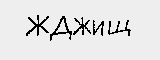Д: (50, 13, 72, 41)
Ж: (23, 10, 49, 38), (73, 13, 90, 37)
И: (90, 15, 105, 37)
Щ: (106, 17, 130, 38)
